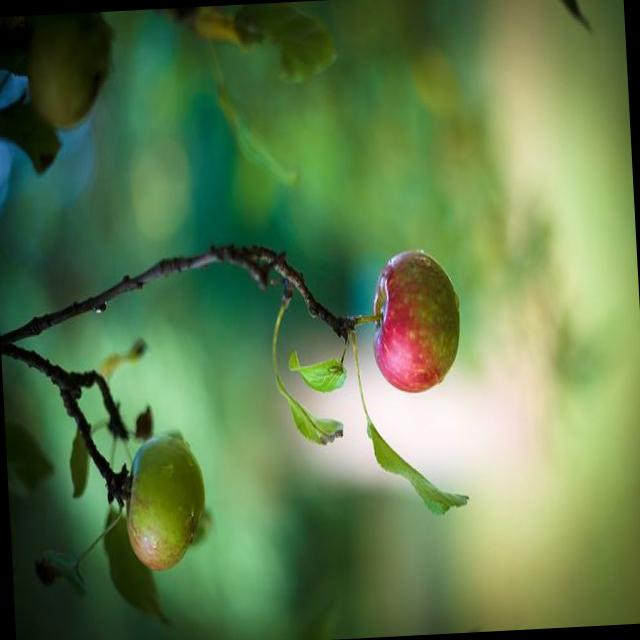Tao: (362, 242, 464, 410), (119, 426, 208, 570), (22, 11, 114, 130)
